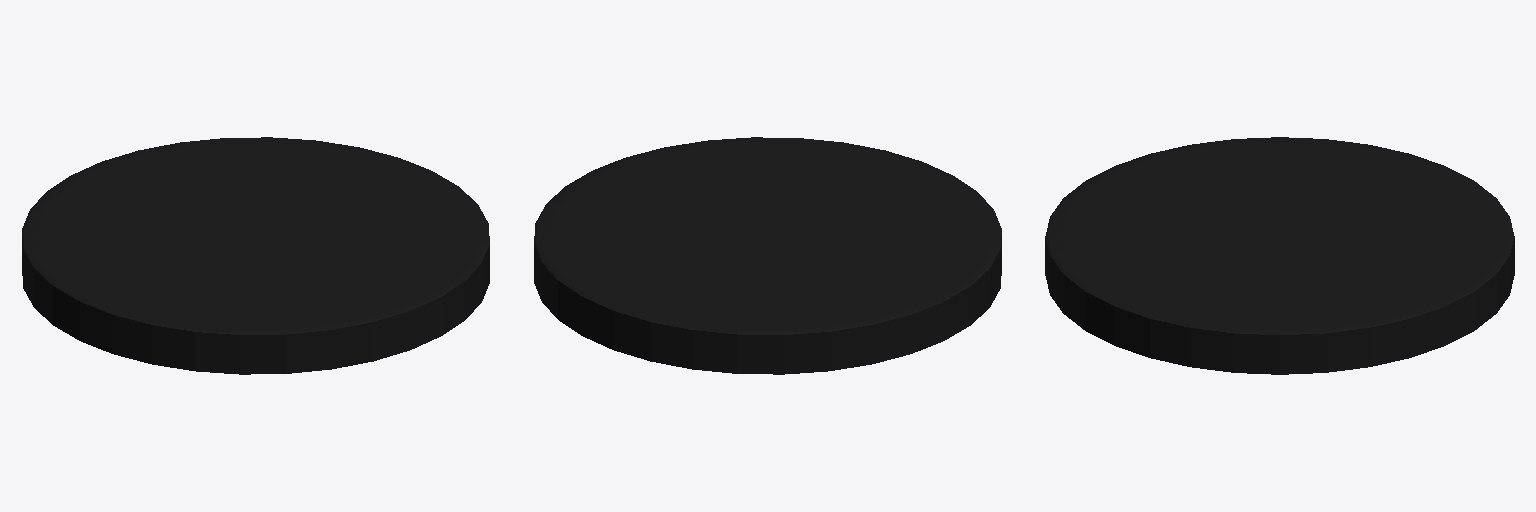
File: coin.obj
The picture shows the model from 3 angles: view 1: azimuth 30°, elevation 25°; view 2: azimuth 150°, elevation 25°; view 3: azimuth 270°, elevation 25°; orthographic projection.
Visible parts, largest first — view 1: Cylinder; view 2: Cylinder; view 3: Cylinder.
Boxes of the visible parts, <box> form: Cylinder: <box>22,137,489,374</box>; Cylinder: <box>534,137,1001,374</box>; Cylinder: <box>1045,137,1514,374</box>.
Size of the model in its own units: 2 by 0.1993 by 2.